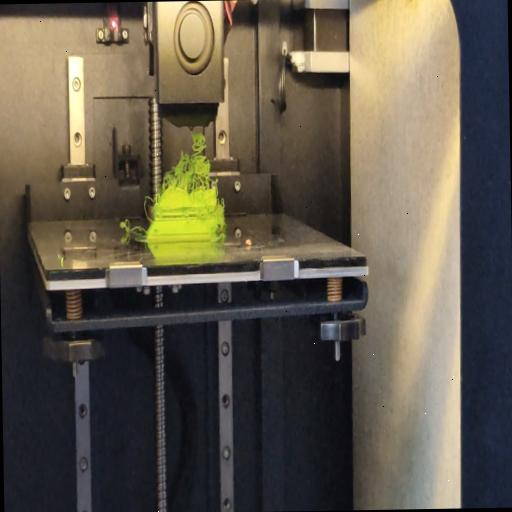spaghetti: (156, 131, 216, 188), (118, 215, 144, 239), (143, 192, 153, 229), (214, 230, 225, 241)
